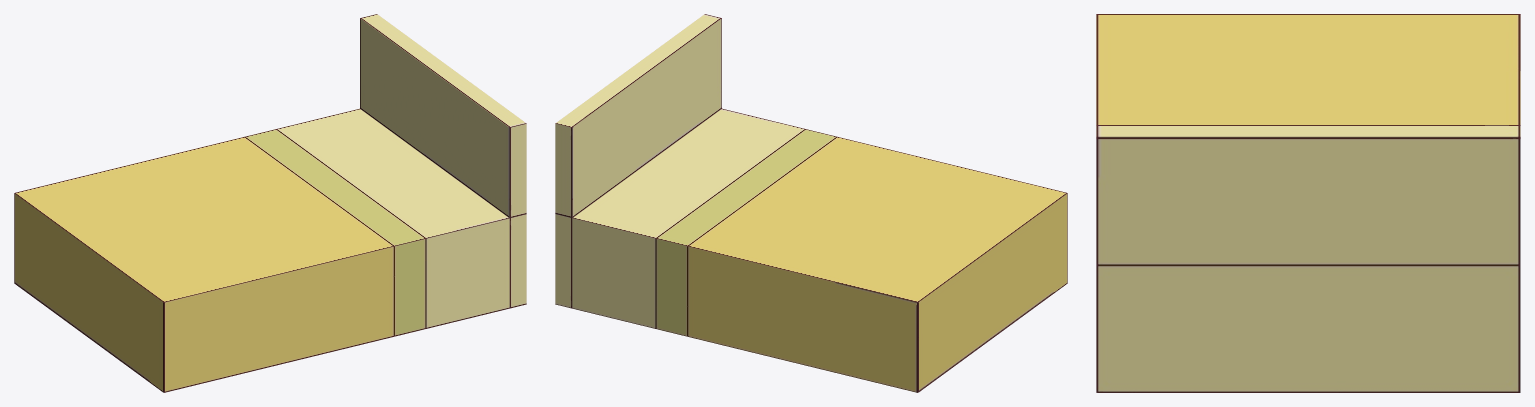
The model's file is Dream(1)_Bed.fbx.
3 views of the same model, side by side, from view 1: azimuth 30°, elevation 25°; view 2: azimuth 150°, elevation 25°; view 3: azimuth 270°, elevation 25° (orthographic). The views are drawn at different scales.
Visible parts, largest first — view 1: Box001; view 2: Box001; view 3: Box001.
Part boxes in pixels (x1=…): Box001: x1=14, y1=14, x2=526, y2=392; Box001: x1=555, y1=14, x2=1067, y2=392; Box001: x1=1096, y1=14, x2=1520, y2=392.
Size of the model in its own units: 84 by 40 by 60.
Materials: 1 (1 with a texture image).
